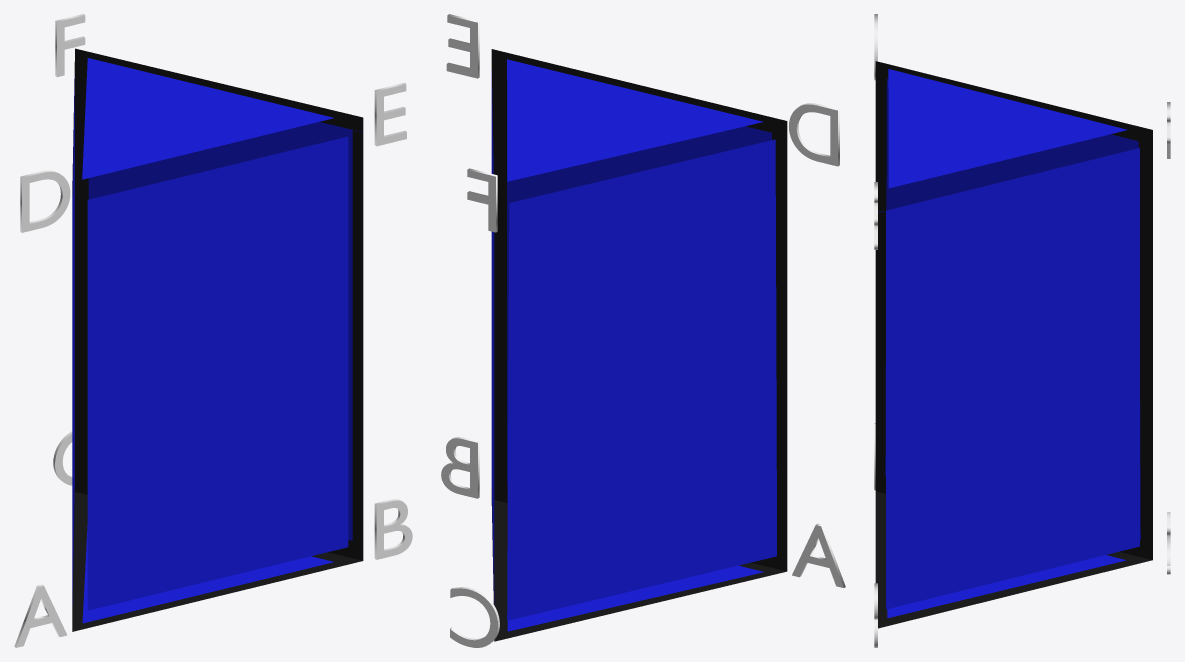
File: Prisma.fbx
3 views of the same model, side by side, from view 1: azimuth 30°, elevation 25°; view 2: azimuth 150°, elevation 25°; view 3: azimuth 270°, elevation 25° (orthographic). The views are drawn at different scales.
Parts seen in each view (by area): view 1: Plane.001, Text.051, Text.053, Text.054, Text.050, Text.049; view 2: Plane.001, Text.051, Text.053, Text.054, Text.050, Text.052, Text.049; view 3: Plane.001.
Part boxes in pixels (x1,y1,x2,y2): Plane.001: [72, 48, 363, 631]; Text.051: [20, 170, 70, 232]; Text.053: [374, 499, 412, 559]; Text.054: [14, 584, 67, 647]; Text.050: [374, 83, 406, 146]; Text.049: [55, 14, 85, 77]; Plane.001: [491, 49, 787, 641]; Text.051: [789, 103, 839, 166]; Text.053: [441, 437, 479, 498]; Text.054: [792, 523, 845, 587]; Text.050: [446, 14, 479, 78]; Text.052: [450, 587, 499, 647]; Text.049: [467, 168, 497, 232]; Plane.001: [875, 61, 1152, 628].
Size of the model in its own units: 410 by 464 by 273.
